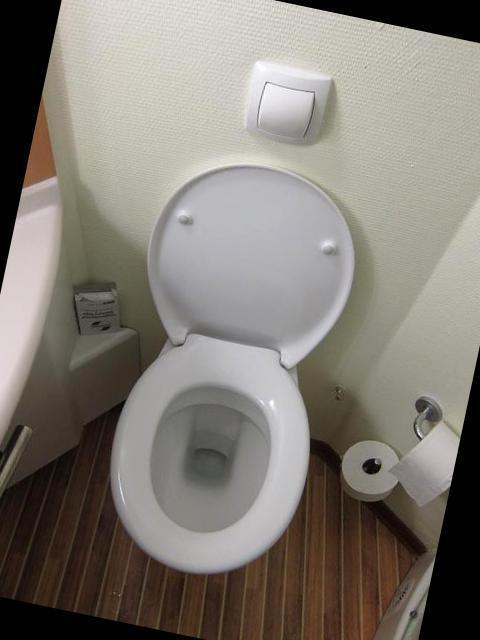Sanitario: (76, 136, 391, 615)
